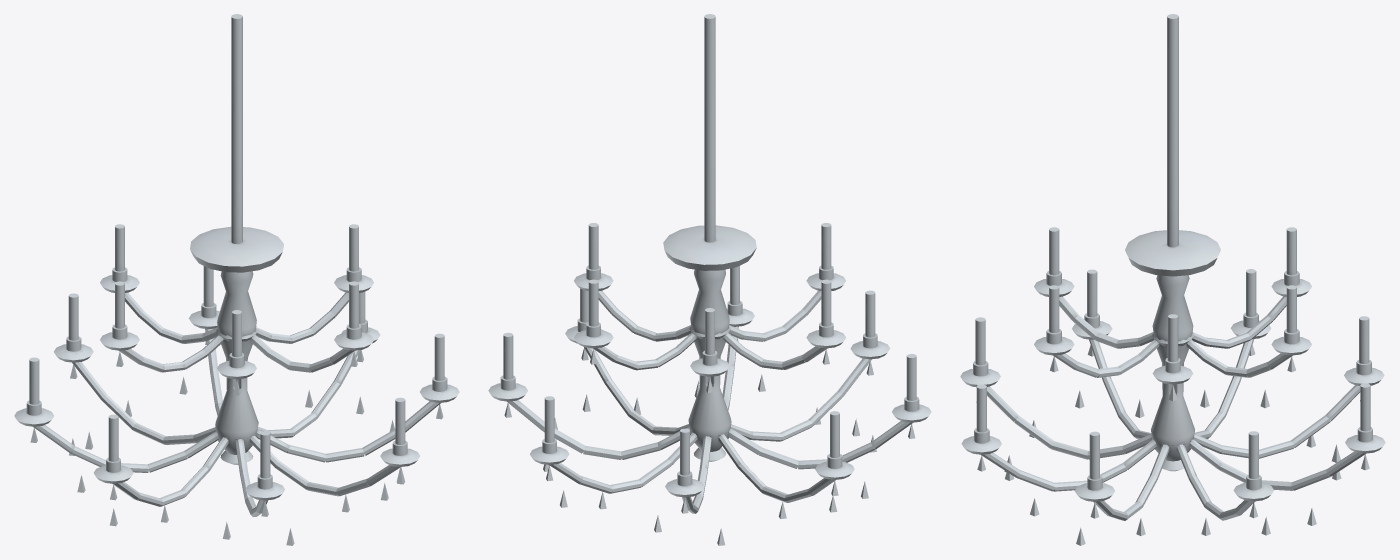
The model's file is candelabra.glb.
3 renders of one model, left to right at view 1: azimuth 30°, elevation 25°; view 2: azimuth 150°, elevation 25°; view 3: azimuth 270°, elevation 25°, orthographic. The views are drawn at different scales.
Visible parts, largest first — view 1: candelabra; view 2: candelabra; view 3: candelabra.
Boxes of the visible parts, left/top/right/bottom form: candelabra: left=14, top=14, right=459, bottom=545; candelabra: left=488, top=14, right=931, bottom=545; candelabra: left=960, top=14, right=1385, bottom=545.
Bounding box in the file's own units: 1.15 × 1.39 × 1.15.
1 material, 1 textured.
